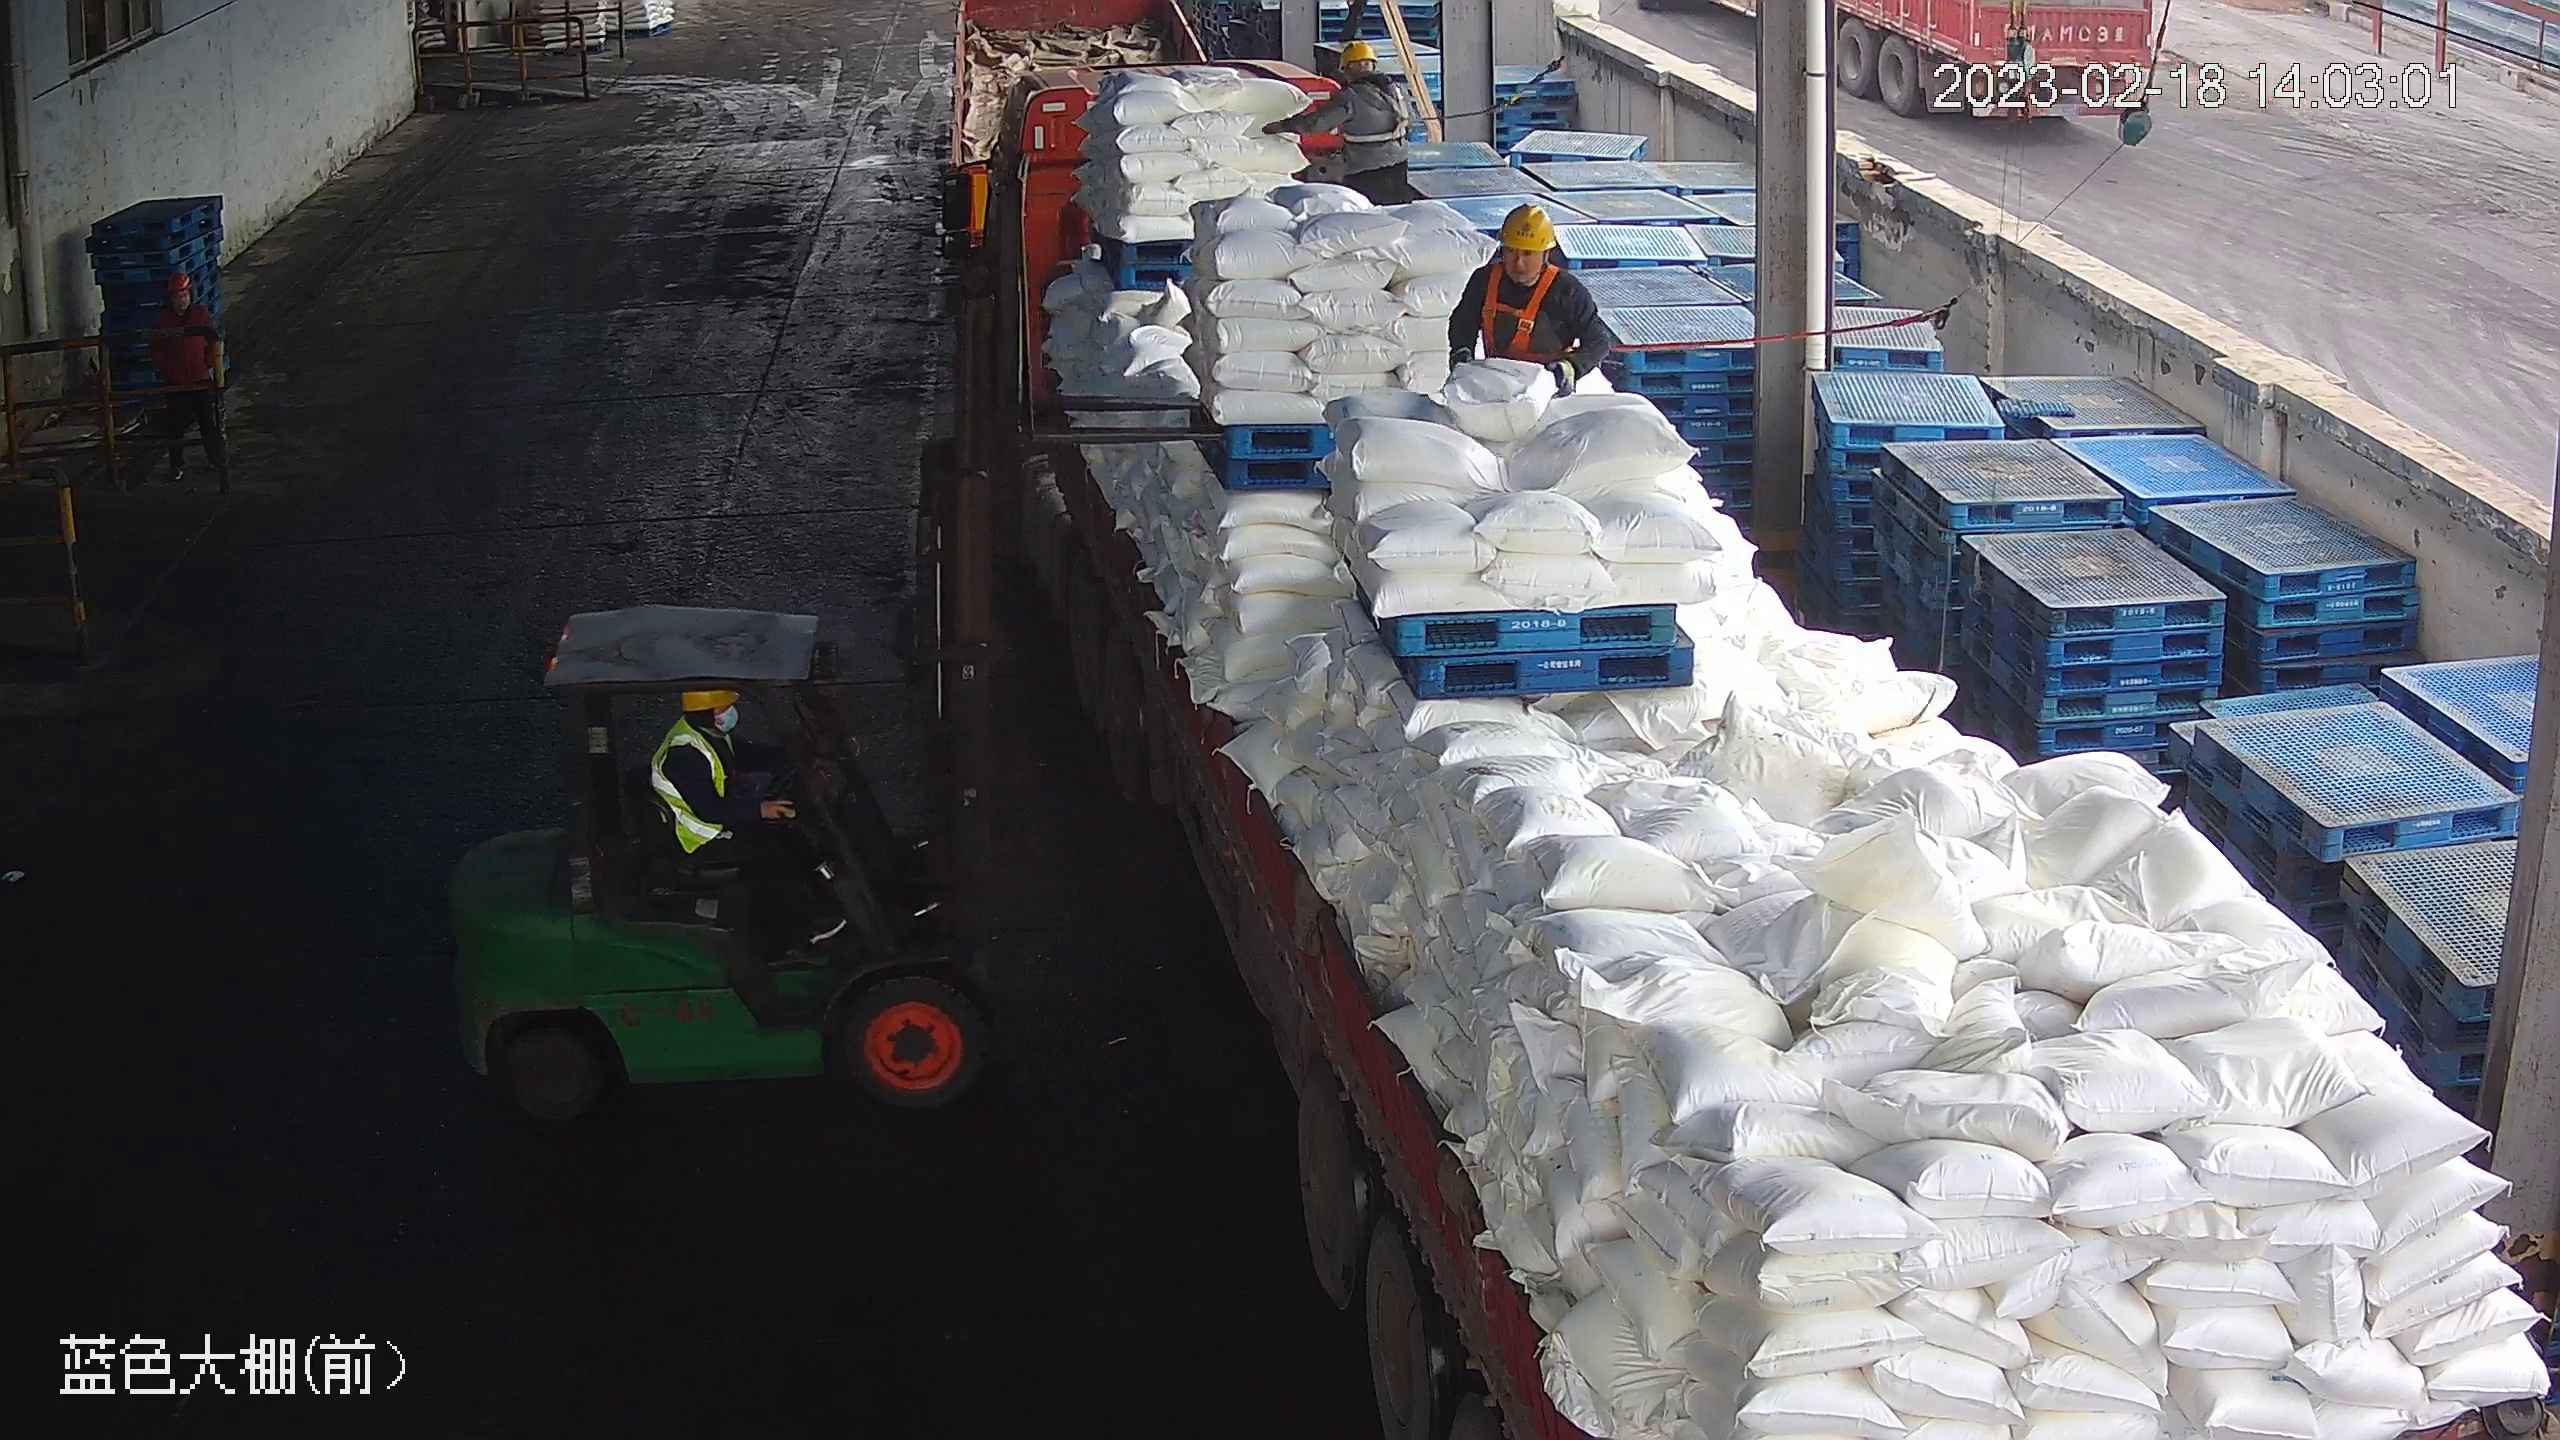belt: (1480, 270, 1572, 366), (1346, 76, 1410, 145)
head: (1464, 201, 1590, 314), (652, 687, 744, 779), (1321, 37, 1402, 110), (157, 269, 218, 333)
helmet: (1495, 201, 1560, 254), (1335, 36, 1379, 65), (166, 270, 198, 295)
people: (651, 684, 845, 922), (1275, 36, 1418, 206), (148, 263, 233, 492)
truck: (986, 54, 2558, 1440)
